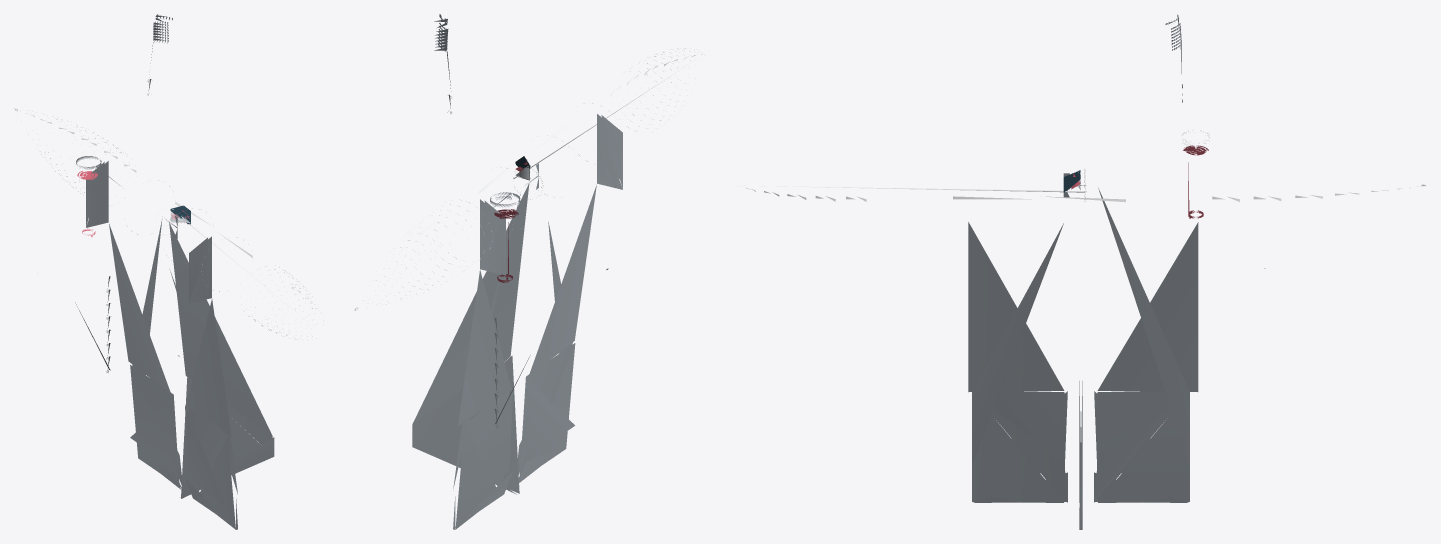
Rendered from b737-UAE-v4.gltf.
3 renders of one model, left to right at view 1: azimuth 30°, elevation 25°; view 2: azimuth 150°, elevation 25°; view 3: azimuth 270°, elevation 25°, orthographic. The views are drawn at different scales.
Visible parts, largest first — view 1: object 1; view 2: object 1; view 3: object 1.
Boxes of the visible parts, box(x1,y1,x2,y2) form: object 1: box(14, 108, 324, 529); object 1: box(354, 48, 704, 529); object 1: box(739, 132, 1426, 529).
Bounding box in the file's own units: 11.43 × 31.77 × 40.
